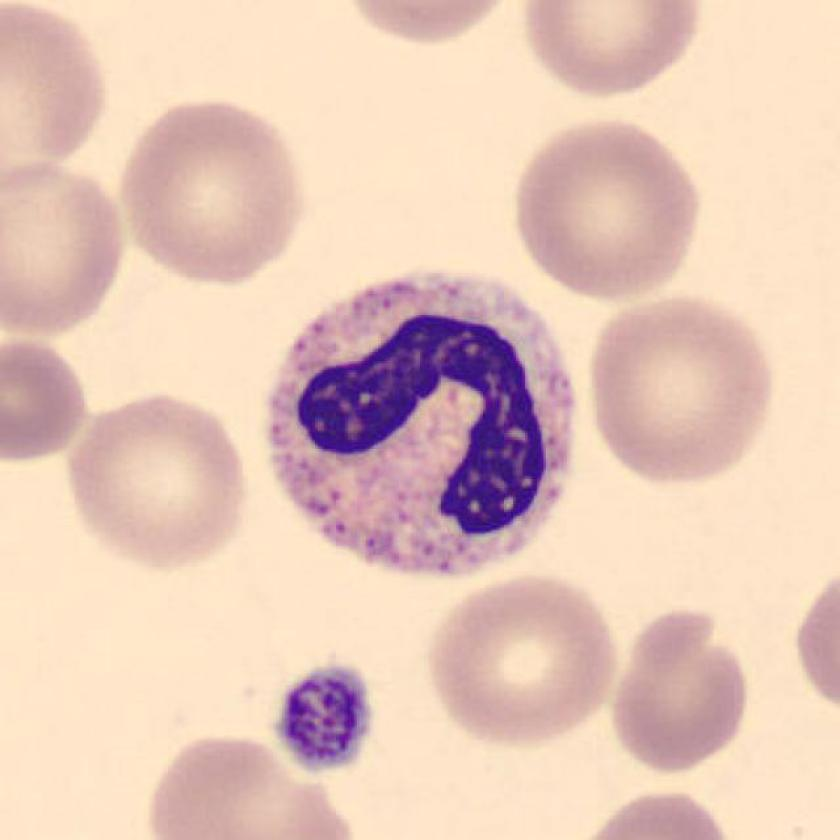neutrophil: (265, 270, 576, 575)
